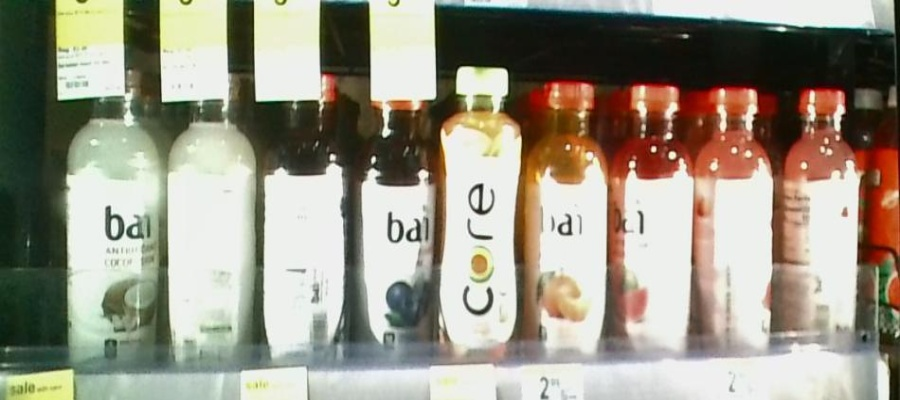bottle: (64, 65, 161, 365), (164, 59, 257, 371), (259, 59, 351, 365), (440, 60, 526, 355), (528, 73, 612, 358), (615, 71, 696, 361), (354, 66, 435, 351), (698, 77, 777, 357), (781, 80, 862, 347)
